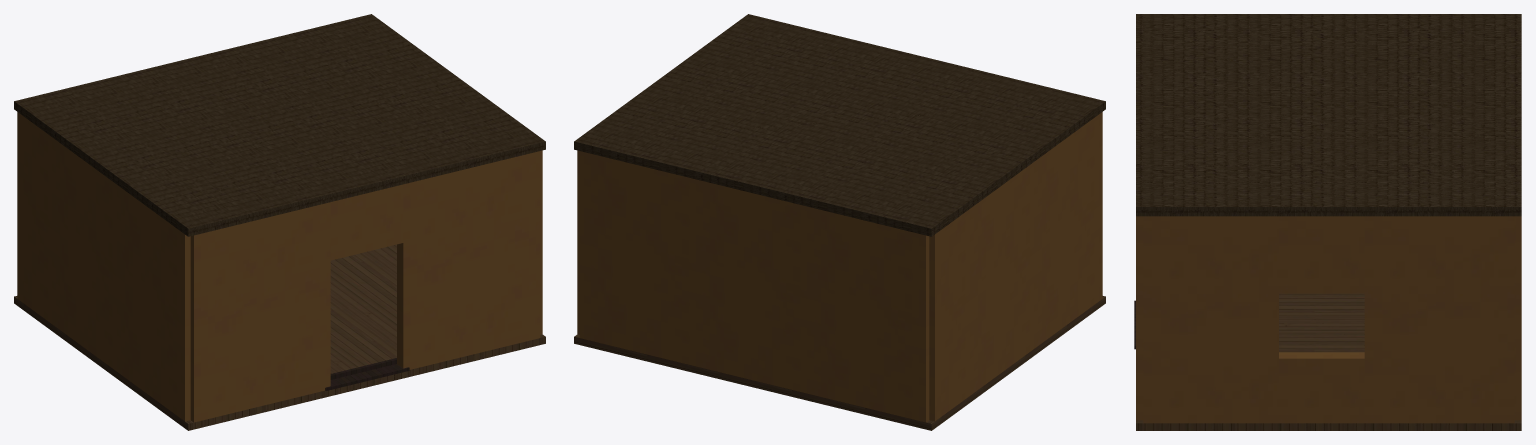
File: int_jp_minka_01.glb
3 views of the same model, side by side, from view 1: azimuth 30°, elevation 25°; view 2: azimuth 150°, elevation 25°; view 3: azimuth 270°, elevation 25° (orthographic). The views are drawn at different scales.
Parts seen in each view (by area): view 1: int_jp_minka_01; view 2: int_jp_minka_01; view 3: int_jp_minka_01.
Boxes of the visible parts, x1=… form: int_jp_minka_01: x1=14, y1=14, x2=545, y2=430; int_jp_minka_01: x1=574, y1=14, x2=1105, y2=430; int_jp_minka_01: x1=1134, y1=14, x2=1521, y2=430.
Size of the model in its own units: 6.4 by 3.46 by 5.42.
Materials: 6 (5 with a texture image).
